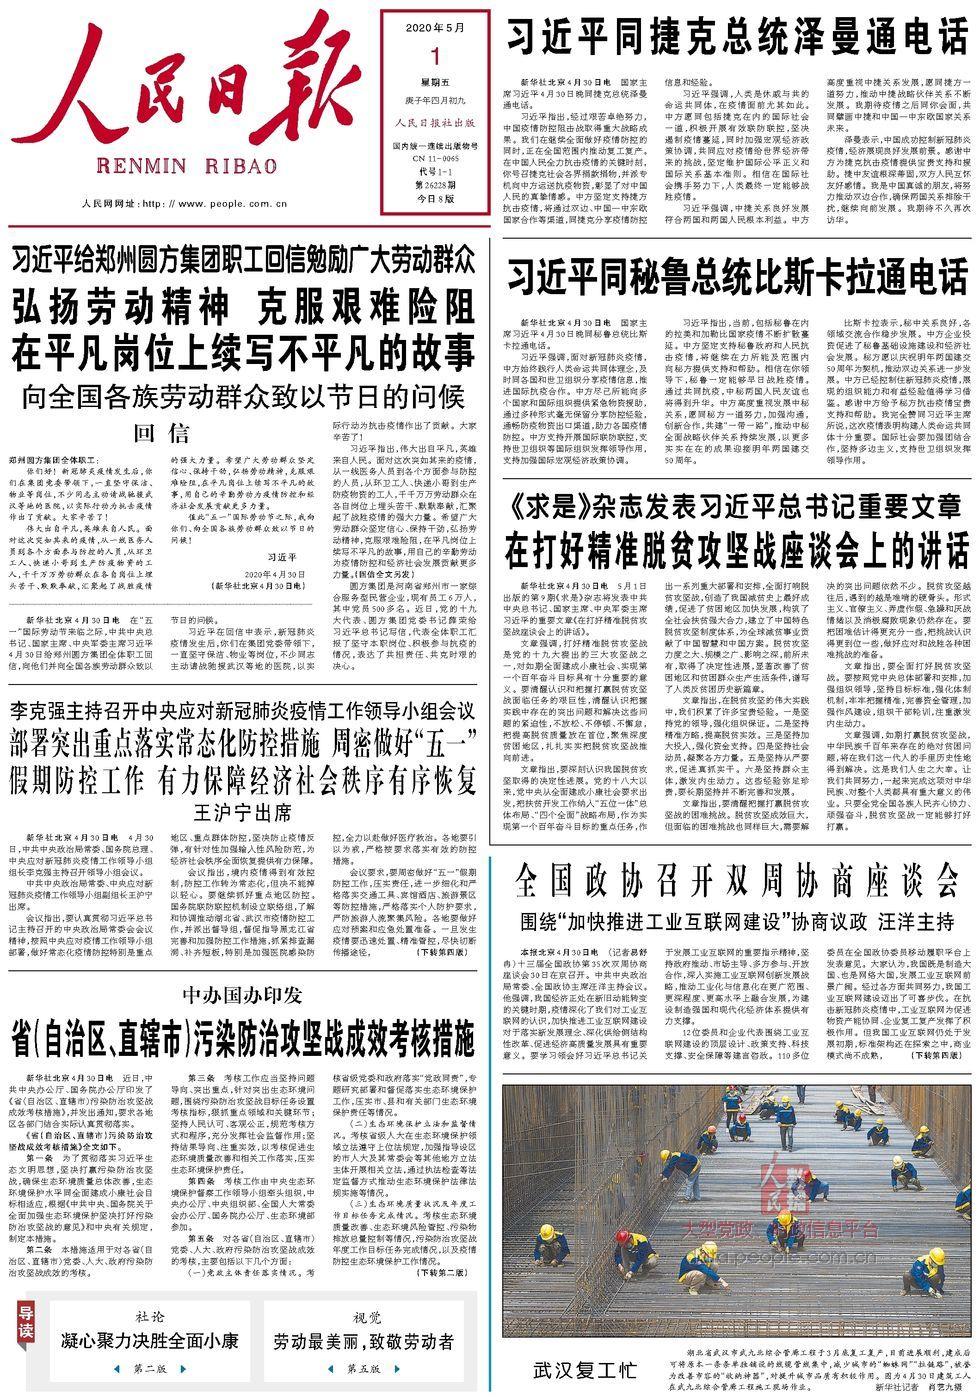pic: (497, 1079, 977, 1341)
